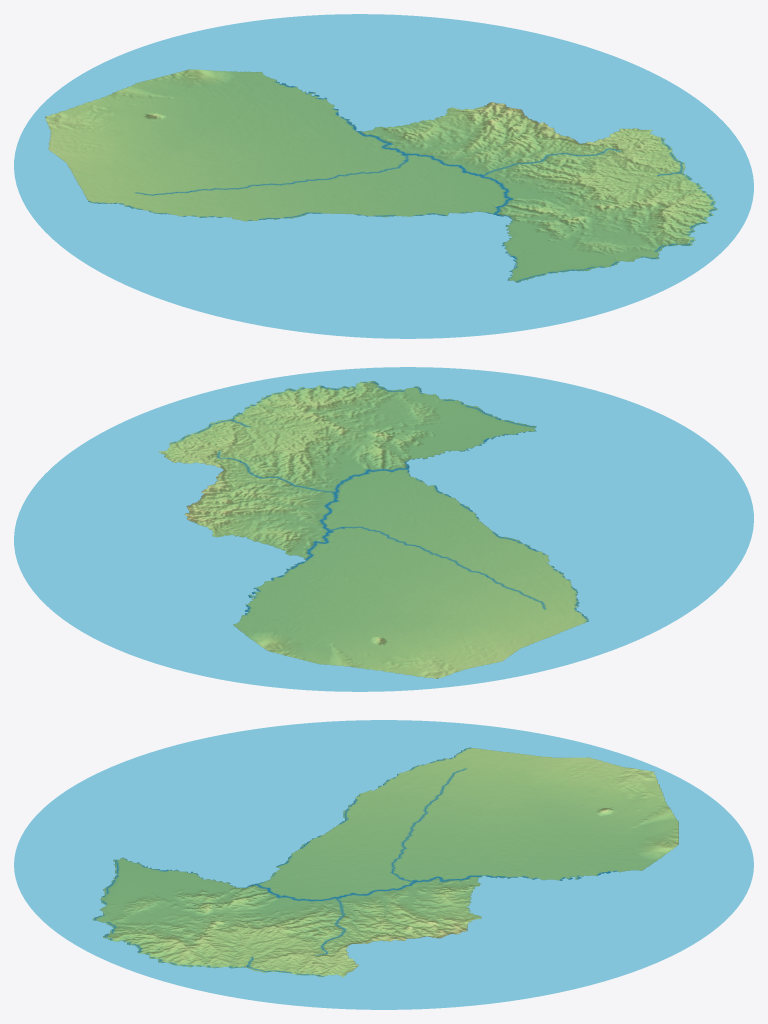
The model's file is PRY-terrain.glb.
3 renders of one model, top to bottom at view 1: azimuth 30°, elevation 25°; view 2: azimuth 150°, elevation 25°; view 3: azimuth 270°, elevation 25°, orthographic. The views are drawn at different scales.
Visible parts, largest first — view 1: Relevo com hidrografia; view 2: Relevo com hidrografia; view 3: Relevo com hidrografia.
Part boxes in pixels (bbox=[...]): Relevo com hidrografia: bbox=[14, 14, 753, 338]; Relevo com hidrografia: bbox=[14, 367, 753, 691]; Relevo com hidrografia: bbox=[14, 720, 753, 1009].
Bounding box in the file's own units: 1.88 × 0.0144 × 2.03.
2 materials, 1 textured.
